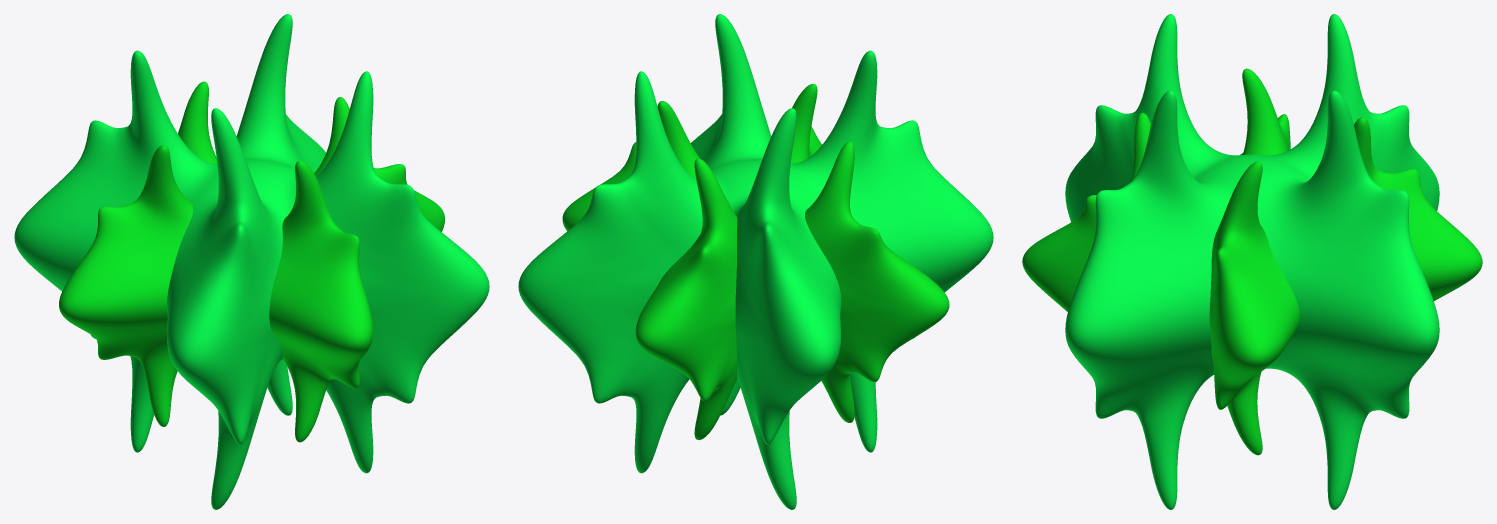
Rendered from xPS_AR4.glb.
3 renders of one model, left to right at view 1: azimuth 30°, elevation 25°; view 2: azimuth 150°, elevation 25°; view 3: azimuth 270°, elevation 25°, orthographic. The views are drawn at different scales.
Parts seen in each view (by area): view 1: Icosphere.014, Icosphere.013; view 2: Icosphere.014, Icosphere.013; view 3: Icosphere.014, Icosphere.013.
Boxes of the visible parts, x1=… form: Icosphere.014: x1=14, y1=14, x2=489, y2=509; Icosphere.013: x1=59, y1=81, x2=444, y2=442; Icosphere.014: x1=518, y1=14, x2=993, y2=509; Icosphere.013: x1=562, y1=84, x2=949, y2=439; Icosphere.014: x1=1065, y1=14, x2=1439, y2=509; Icosphere.013: x1=1022, y1=68, x2=1482, y2=455.
Size of what is drawn, in the model's own units: 0.5013 by 0.5032 by 0.5013.
